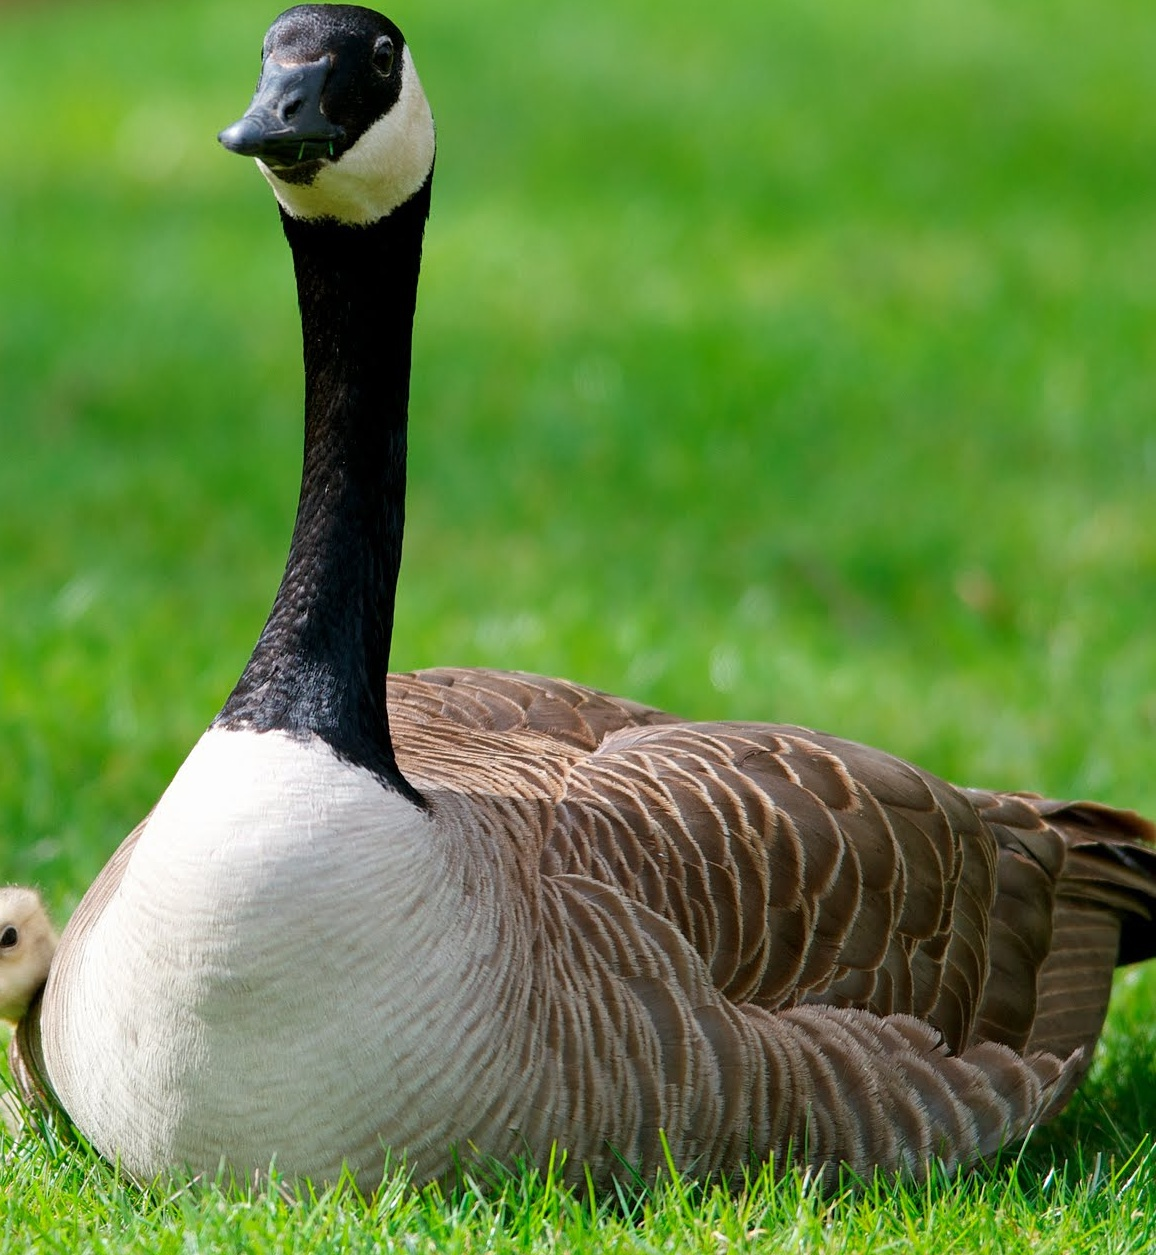goose: (39, 2, 1156, 1206)
